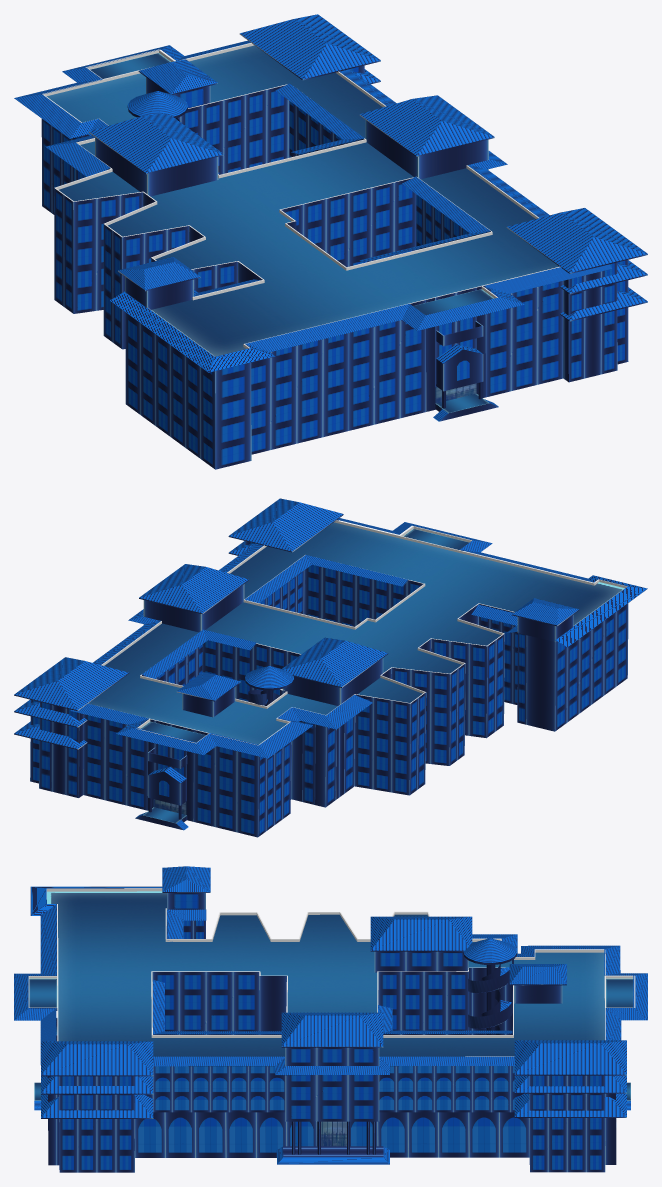
File: xzl.obj
The picture shows the model from 3 angles, top to bottom: view 1: azimuth 30°, elevation 25°; view 2: azimuth 150°, elevation 25°; view 3: azimuth 270°, elevation 25°; orthographic projection. The views are drawn at different scales.
Visible parts, largest first — view 1: Line744; view 2: Line744; view 3: Line744.
Part boxes in pixels (left/top/right/bottom): Line744: left=14, top=14, right=647, bottom=469; Line744: left=14, top=498, right=647, bottom=837; Line744: left=14, top=866, right=647, bottom=1172.
Bounding box in the file's own units: 82.88 × 27 × 114.
